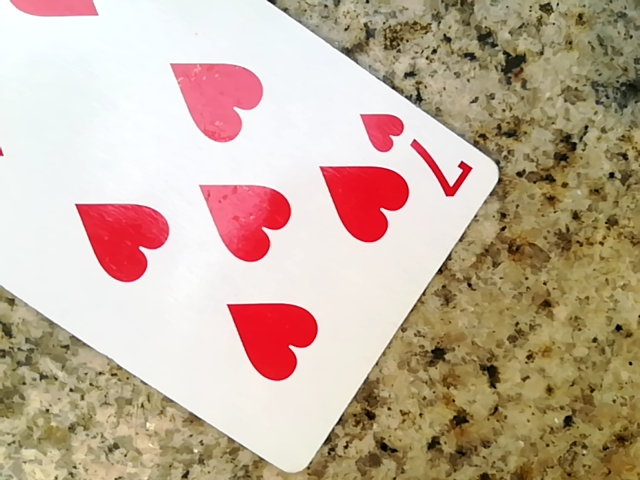hx 7: (2, 3, 503, 479)
